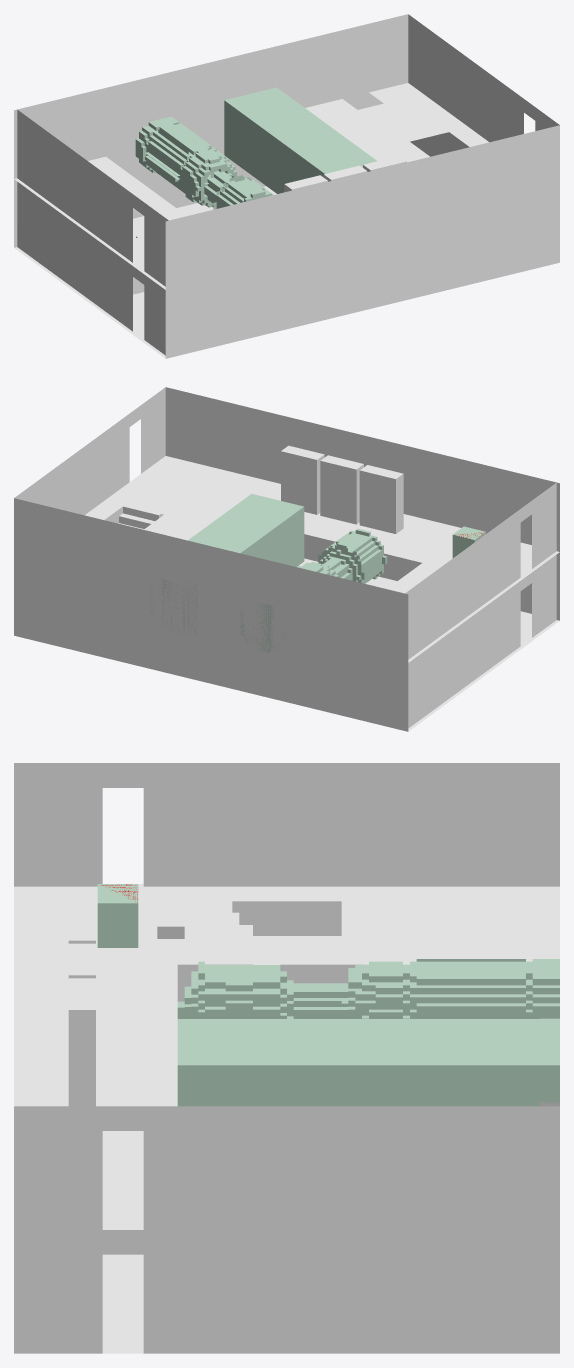
File: 主机舱.glb
The picture shows the model from 3 angles, top to bottom: view 1: azimuth 30°, elevation 25°; view 2: azimuth 150°, elevation 25°; view 3: azimuth 270°, elevation 25°; orthographic projection. The views are drawn at different scales.
Visible parts, largest first — view 1: Plane__7_, Plane__6_, 两层楼的带门口的墙__1_.001, 两层楼的带门口的墙.001, Cube.002, 房间中间层_1.008, Cube.005, 两层楼的带门口的墙__1_, 房间中间层_1.002, 房间顶__1_.001, 房间中间层_1.006, 房间中间层_1.009 (+3 smaller); view 2: Plane__6_, Plane__7_, 两层楼的带门口的墙__1_.001, 房间中间层_1.003, 两层楼的带门口的墙.001, 两层楼的带门口的墙__1_, Cube.002, Cube.005, 两层楼的带门口的墙, 房间中间层_1.007, 房间顶__1_.001, ________1_4_2.002 (+7 smaller); view 3: 两层楼的带门口的墙.001, 两层楼的带门口的墙__1_.001, 房间中间层_1.003, 两层楼的带门口的墙, Cube.002, 房间中间层_1.002, Cube.006, 两层楼的带门口的墙__1_, 房间中间层_1.001, 房间顶__1_.001, 房间中间层_1.004, Obstruction.001 (+10 smaller).
Part boxes in pixels (<box>): Plane__7_: <box>165,125,559,358</box>; Plane__6_: <box>14,14,408,247</box>; 两层楼的带门口的墙__1_.001: <box>17,110,132,331</box>; 两层楼的带门口的墙.001: <box>408,14,523,156</box>; Cube.002: <box>224,87,377,173</box>; 房间中间层_1.008: <box>320,94,468,152</box>; Cube.005: <box>224,100,324,193</box>; 两层楼的带门口的墙__1_: <box>144,203,168,355</box>; 房间中间层_1.002: <box>14,156,165,223</box>; 房间顶__1_.001: <box>29,231,165,358</box>; 房间中间层_1.006: <box>366,141,429,162</box>; 房间中间层_1.009: <box>369,83,422,103</box>; Plane__6_: <box>14,498,408,731</box>; Plane__7_: <box>165,387,559,620</box>; 两层楼的带门口的墙__1_.001: <box>405,509,520,728</box>; 房间中间层_1.003: <box>120,456,559,585</box>; 两层楼的带门口的墙.001: <box>14,414,129,523</box>; 两层楼的带门口的墙__1_: <box>532,483,556,637</box>; Cube.002: <box>188,494,303,553</box>; Cube.005: <box>240,507,304,566</box>; 两层楼的带门口的墙: <box>141,387,165,516</box>; 房间中间层_1.007: <box>105,489,222,525</box>; 房间顶__1_.001: <box>299,558,559,720</box>; ________1_4_2.002: <box>359,470,379,529</box>; 两层楼的带门口的墙.001: <box>143,1106,559,1353</box>; 两层楼的带门口的墙__1_.001: <box>143,763,559,1001</box>; 房间中间层_1.003: <box>14,884,177,1229</box>; 两层楼的带门口的墙: <box>14,1106,102,1353</box>; Cube.002: <box>177,1019,559,1065</box>; 房间中间层_1.002: <box>341,886,559,964</box>; Cube.006: <box>177,1065,559,1106</box>; 两层楼的带门口的墙__1_: <box>14,763,102,886</box>; 房间中间层_1.001: <box>177,886,232,964</box>; 房间顶__1_.001: <box>102,1254,143,1353</box>; 房间中间层_1.004: <box>232,936,341,964</box>; Obstruction.001: <box>97,884,138,947</box>.
Bounding box in the file's own units: 60 × 20 × 40.
